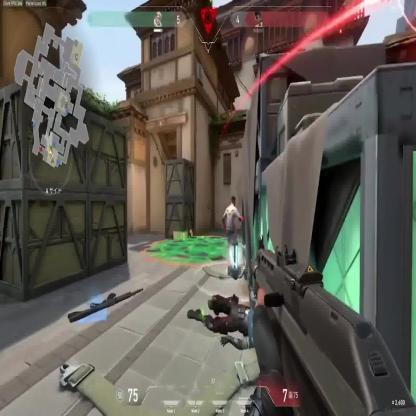enemy: (221, 194, 244, 269)
enemy_head: (230, 194, 236, 206)
